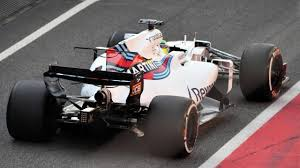FormulaOneCar: (6, 14, 287, 159)
